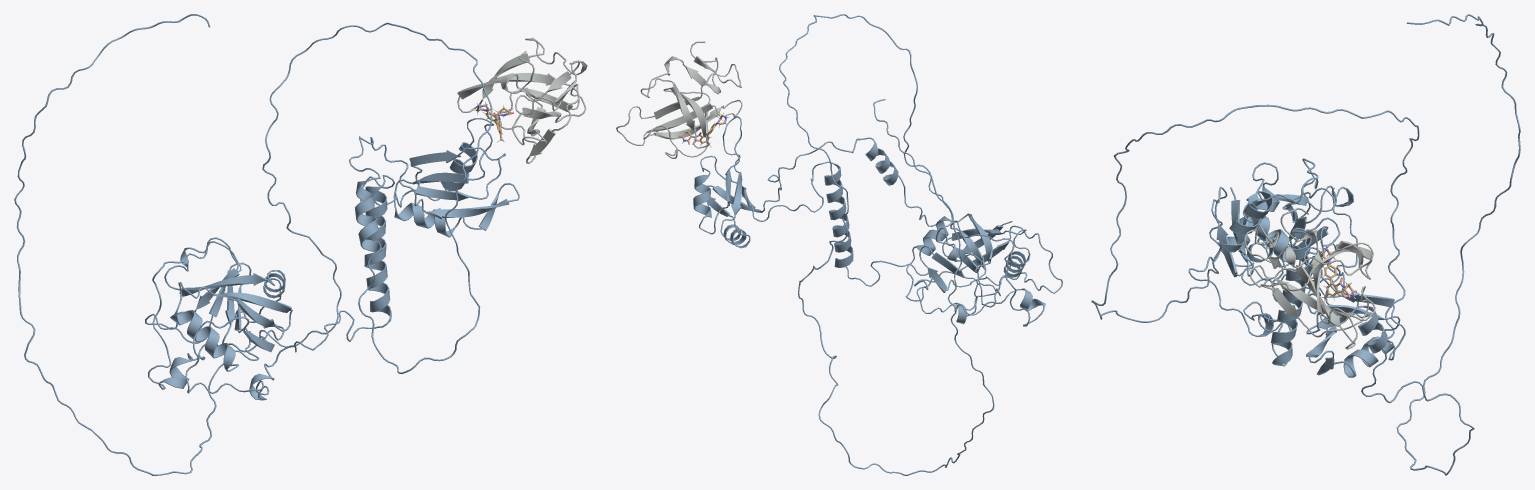
The picture shows the model from 3 angles, left to right: view 1: azimuth 30°, elevation 25°; view 2: azimuth 150°, elevation 25°; view 3: azimuth 270°, elevation 25°; orthographic projection. The views are drawn at different scales.
Parts seen in each view (by area): view 1: node-geom100, node-geom101; view 2: node-geom100, node-geom101; view 3: node-geom100, node-geom101.
Boxes of the visible parts, left/top/right/bottom form: node-geom100: left=145, top=38, right=587, bottom=400; node-geom101: left=14, top=14, right=519, bottom=475; node-geom100: left=616, top=41, right=1062, bottom=326; node-geom101: left=693, top=14, right=994, bottom=475; node-geom100: left=1188, top=158, right=1375, bottom=366; node-geom101: left=1091, top=14, right=1520, bottom=475.
Size of the model in its own units: 136 by 114 by 96.99.
